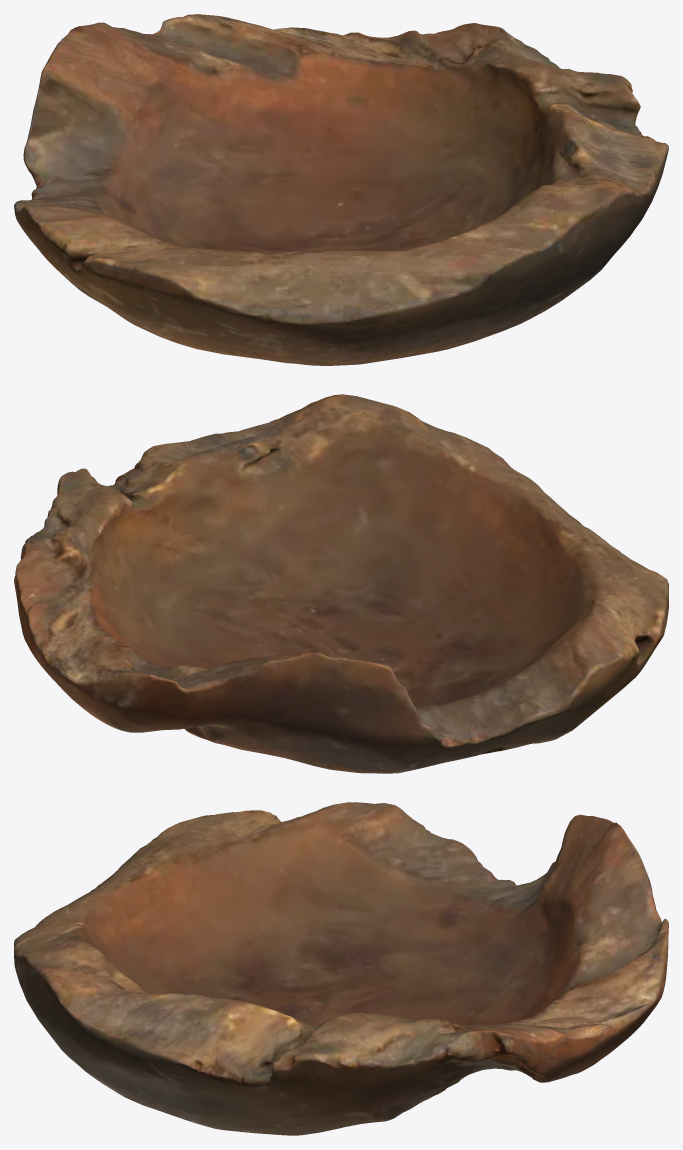
File: wooden_bowl_01.glb
3 views of the same model, one above another, from view 1: azimuth 30°, elevation 25°; view 2: azimuth 150°, elevation 25°; view 3: azimuth 270°, elevation 25° (orthographic). The views are drawn at different scales.
Parts seen in each view (by area): view 1: wooden_bowl_01; view 2: wooden_bowl_01; view 3: wooden_bowl_01.
Boxes of the visible parts, x1,y1,x2,y2 form: wooden_bowl_01: (14, 14, 668, 365); wooden_bowl_01: (14, 394, 668, 773); wooden_bowl_01: (14, 802, 668, 1135).
Size of the model in its own units: 0.3131 by 0.0937 by 0.3091.
1 material, 1 textured.
